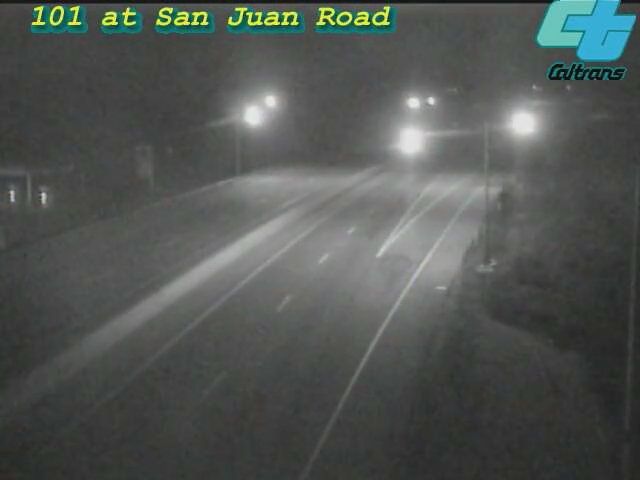vehicle: (385, 117, 435, 167), (489, 99, 539, 149)
